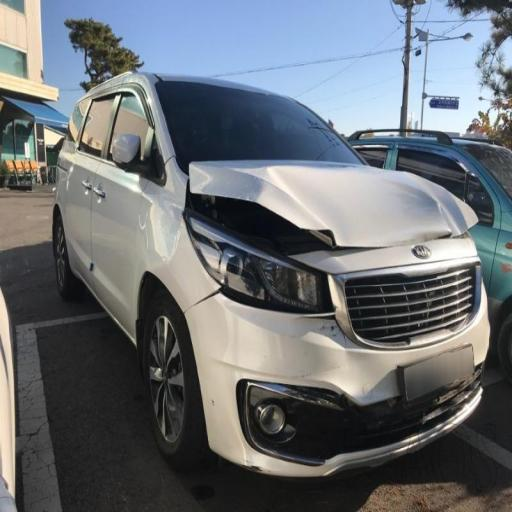dent: (173, 142, 483, 298)
scratch: (279, 318, 354, 366)
